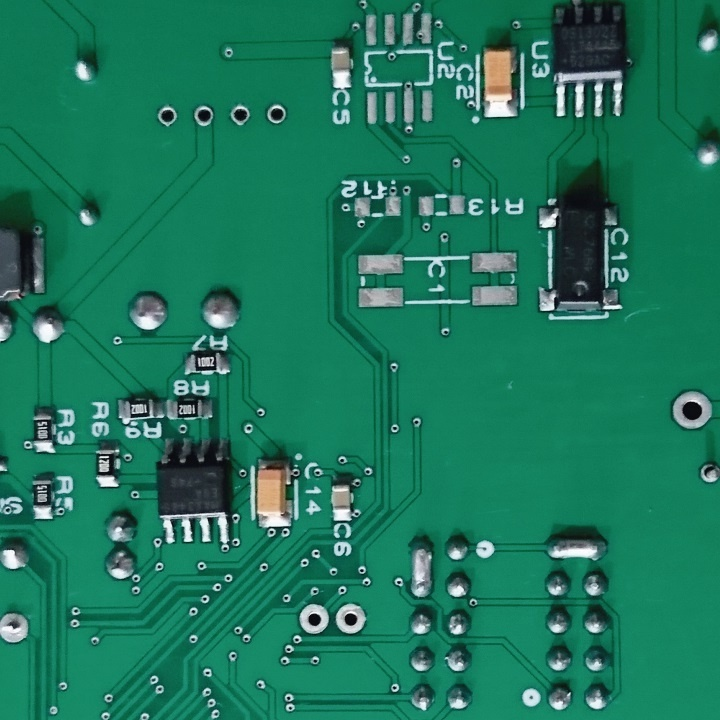F: (670, 389, 716, 435), (296, 598, 332, 638), (331, 602, 370, 637), (1, 612, 36, 646), (696, 456, 720, 491), (191, 102, 219, 132), (262, 102, 290, 129), (227, 104, 253, 127), (158, 105, 179, 129)
P: (541, 527, 612, 565), (403, 532, 437, 601)
